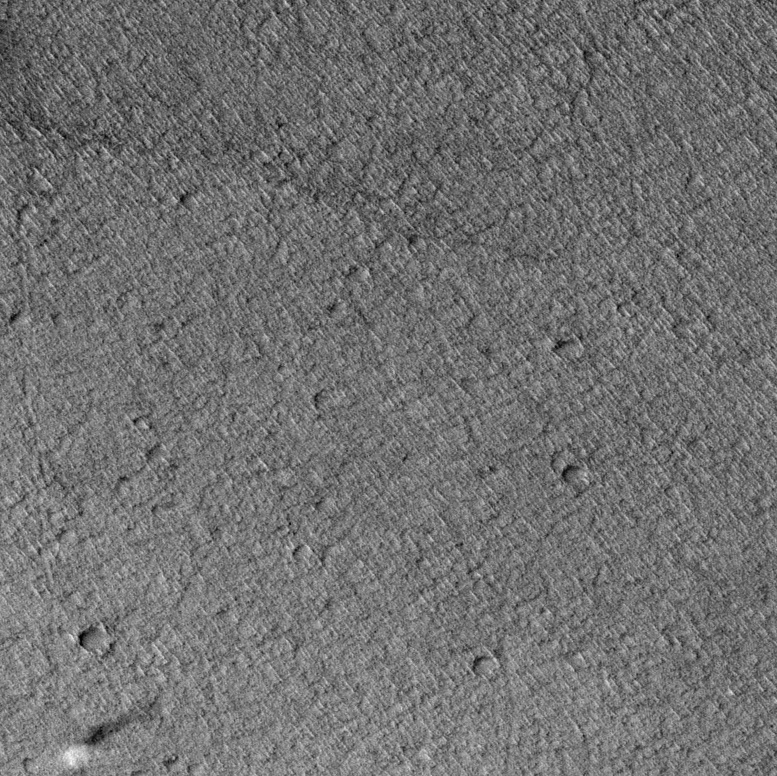dust_devil: (60, 695, 162, 768)
